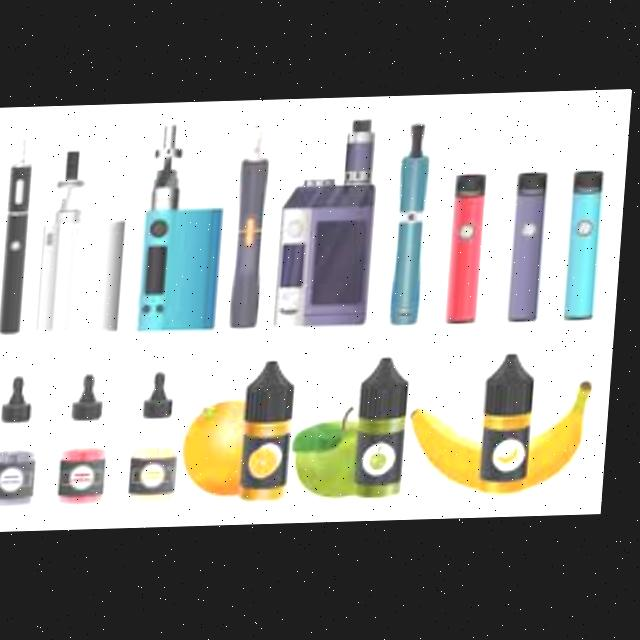vape: (279, 119, 384, 329), (143, 122, 234, 332), (40, 147, 136, 333), (234, 125, 275, 331), (395, 125, 436, 329), (1, 135, 37, 336), (449, 176, 491, 326), (568, 174, 609, 322), (512, 175, 551, 324)
